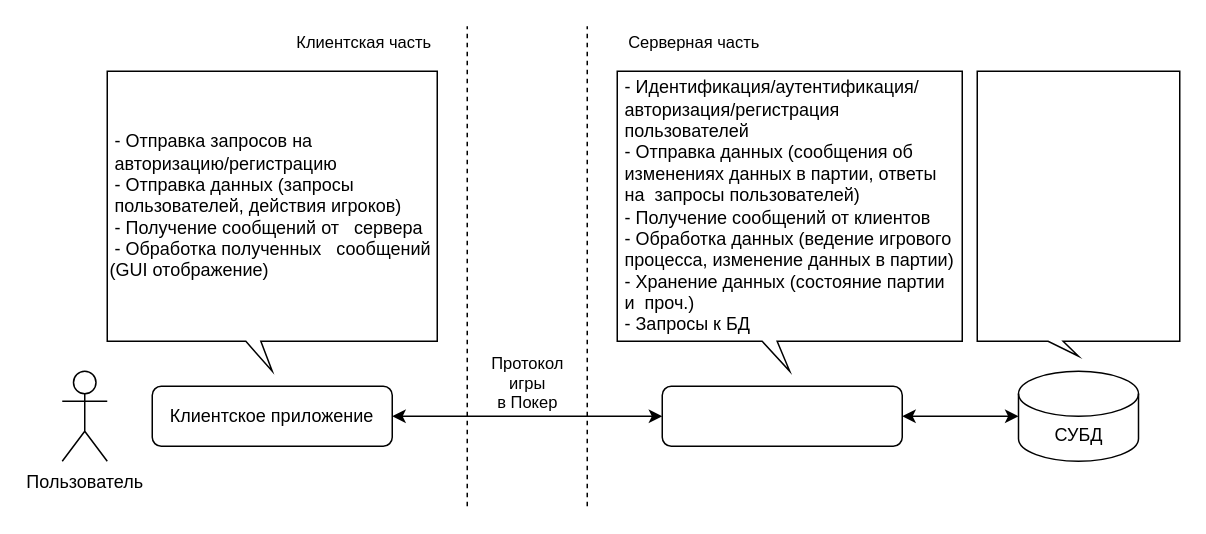
Image size: 1206x534. Some labels were removed from this diagram. Here are the shapes that lost their labels. From the top down, the box of each, then its label:
(976, 70, 1180, 356): - Хранение данных о пользователях
(661, 385, 902, 446): Сервер
